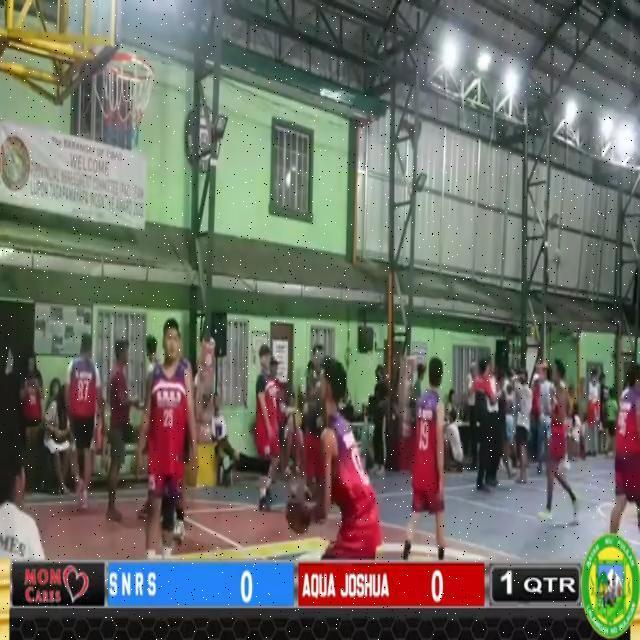ball: (285, 482, 313, 532)
hoop: (104, 51, 157, 82)
